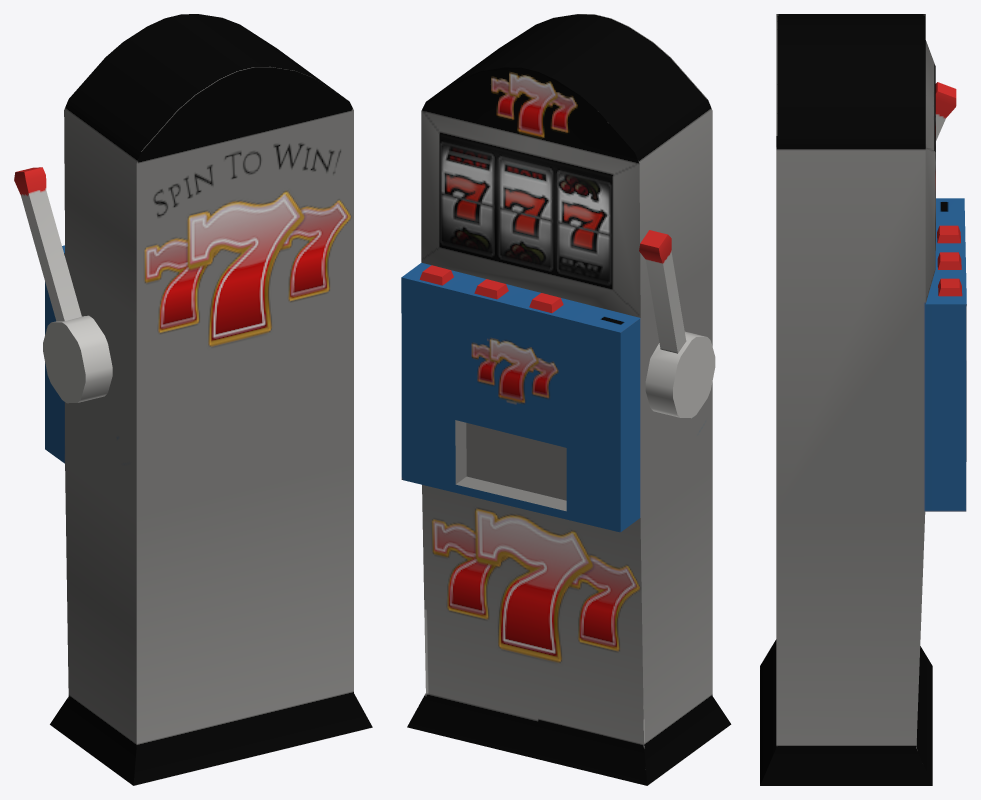
The model's file is slot machine.FBX.
3 views of the same model, side by side, from view 1: azimuth 30°, elevation 25°; view 2: azimuth 150°, elevation 25°; view 3: azimuth 270°, elevation 25° (orthographic). The views are drawn at different scales.
Visible parts, largest first — view 1: slot machine; view 2: slot machine; view 3: slot machine.
Boxes of the visible parts, x1,y1,x2,y2 form: slot machine: [14, 14, 372, 785]; slot machine: [401, 14, 731, 785]; slot machine: [760, 14, 966, 785].
Bounding box in the file's own units: 36.91 × 91.19 × 24.37.
Materials: 1 (1 with a texture image).
